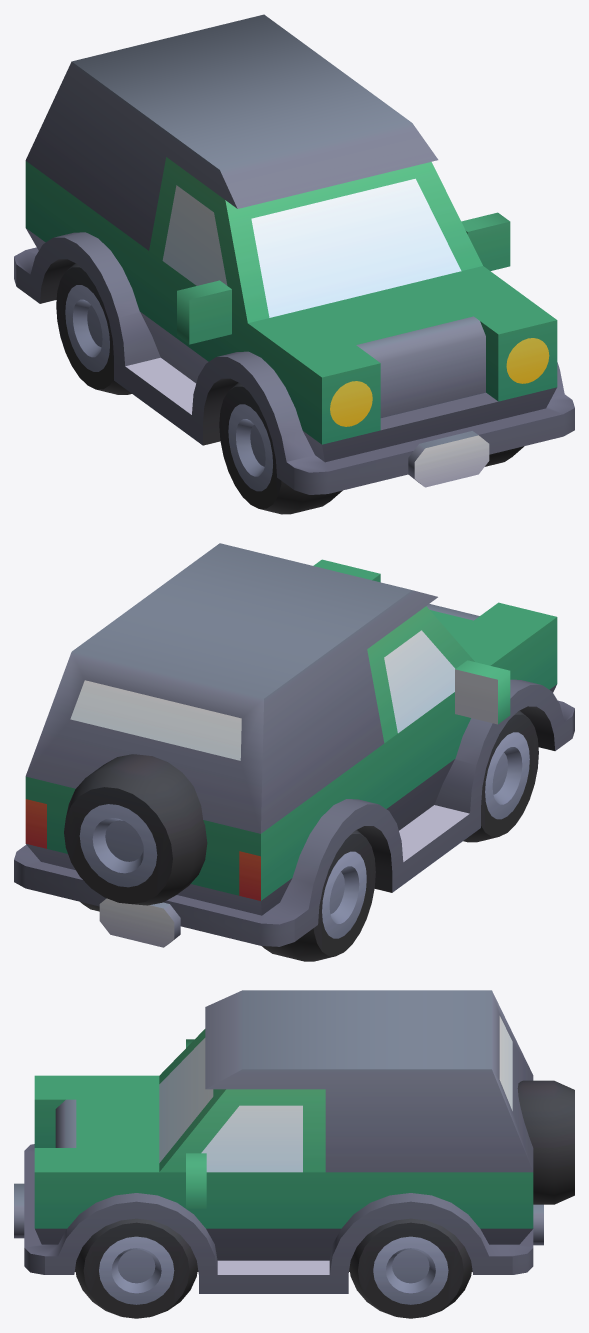
Rendered from suv.glb.
3 renders of one model, top to bottom at view 1: azimuth 30°, elevation 25°; view 2: azimuth 150°, elevation 25°; view 3: azimuth 270°, elevation 25°, orthographic. The views are drawn at different scales.
Visible parts, largest first — view 1: body; view 2: body; view 3: body.
Boxes of the visible parts, left/top/right/bottom form: body: left=14, top=14, right=574, bottom=514; body: left=14, top=543, right=574, bottom=961; body: left=14, top=990, right=574, bottom=1318.
Bounding box in the file's own units: 1.5 × 1.3 × 2.7.
1 material, 1 textured.
